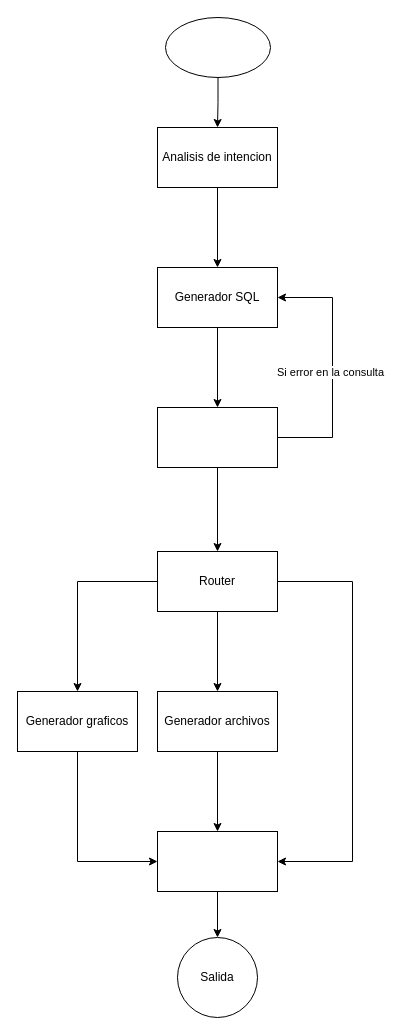
This 401x1035 diagram has some shape labels left out. Each missing label, with the centre of its shape:
"Ejecutador SQL" belongs at (x=217, y=437).
"Entrada" belongs at (x=217, y=47).
"Generador respuesta" belongs at (x=217, y=861).
